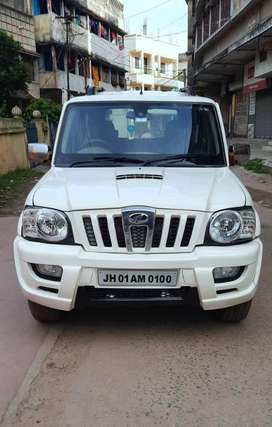JH01AM0100: (97, 268, 180, 284)
